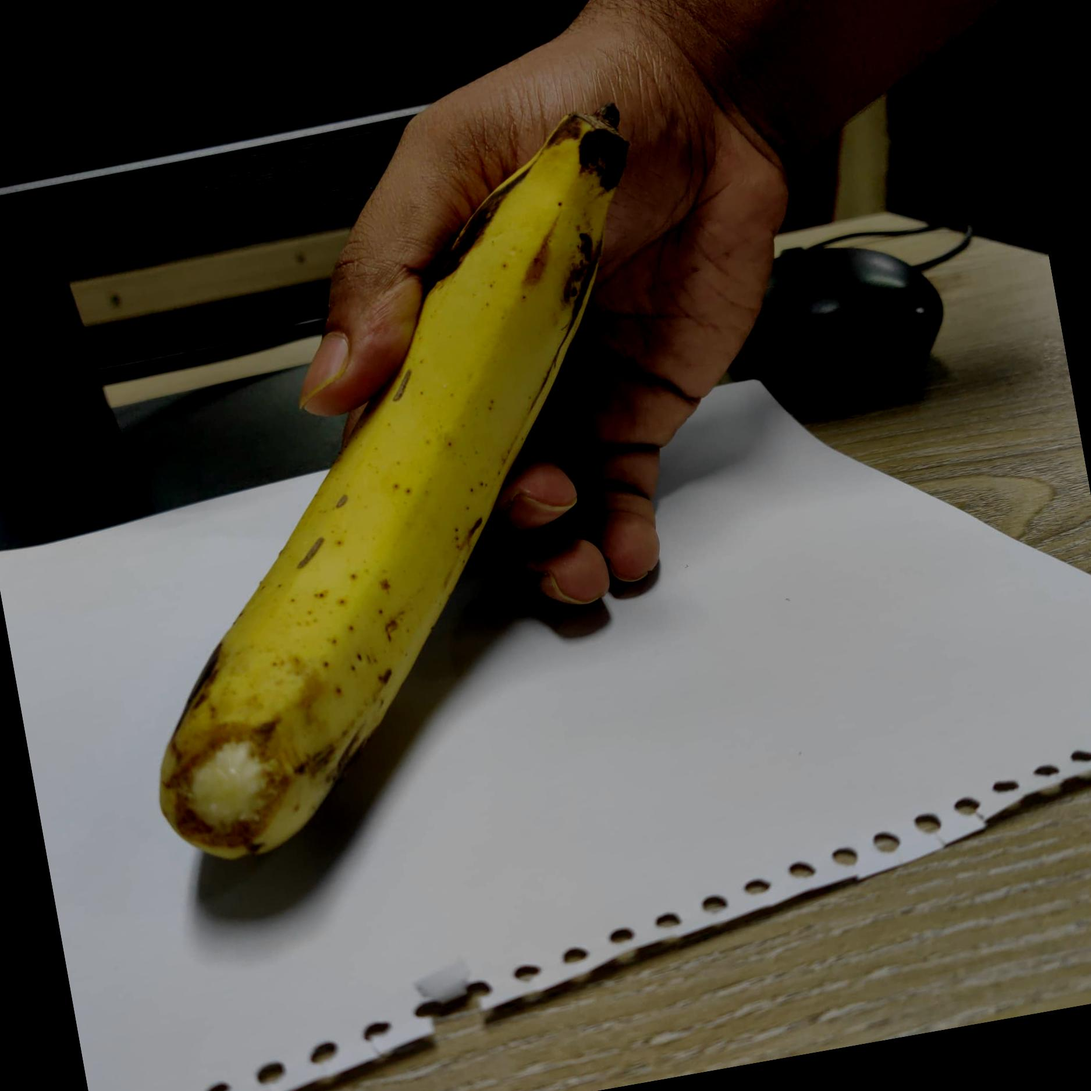Banana Ripe: (44, 84, 793, 910)
